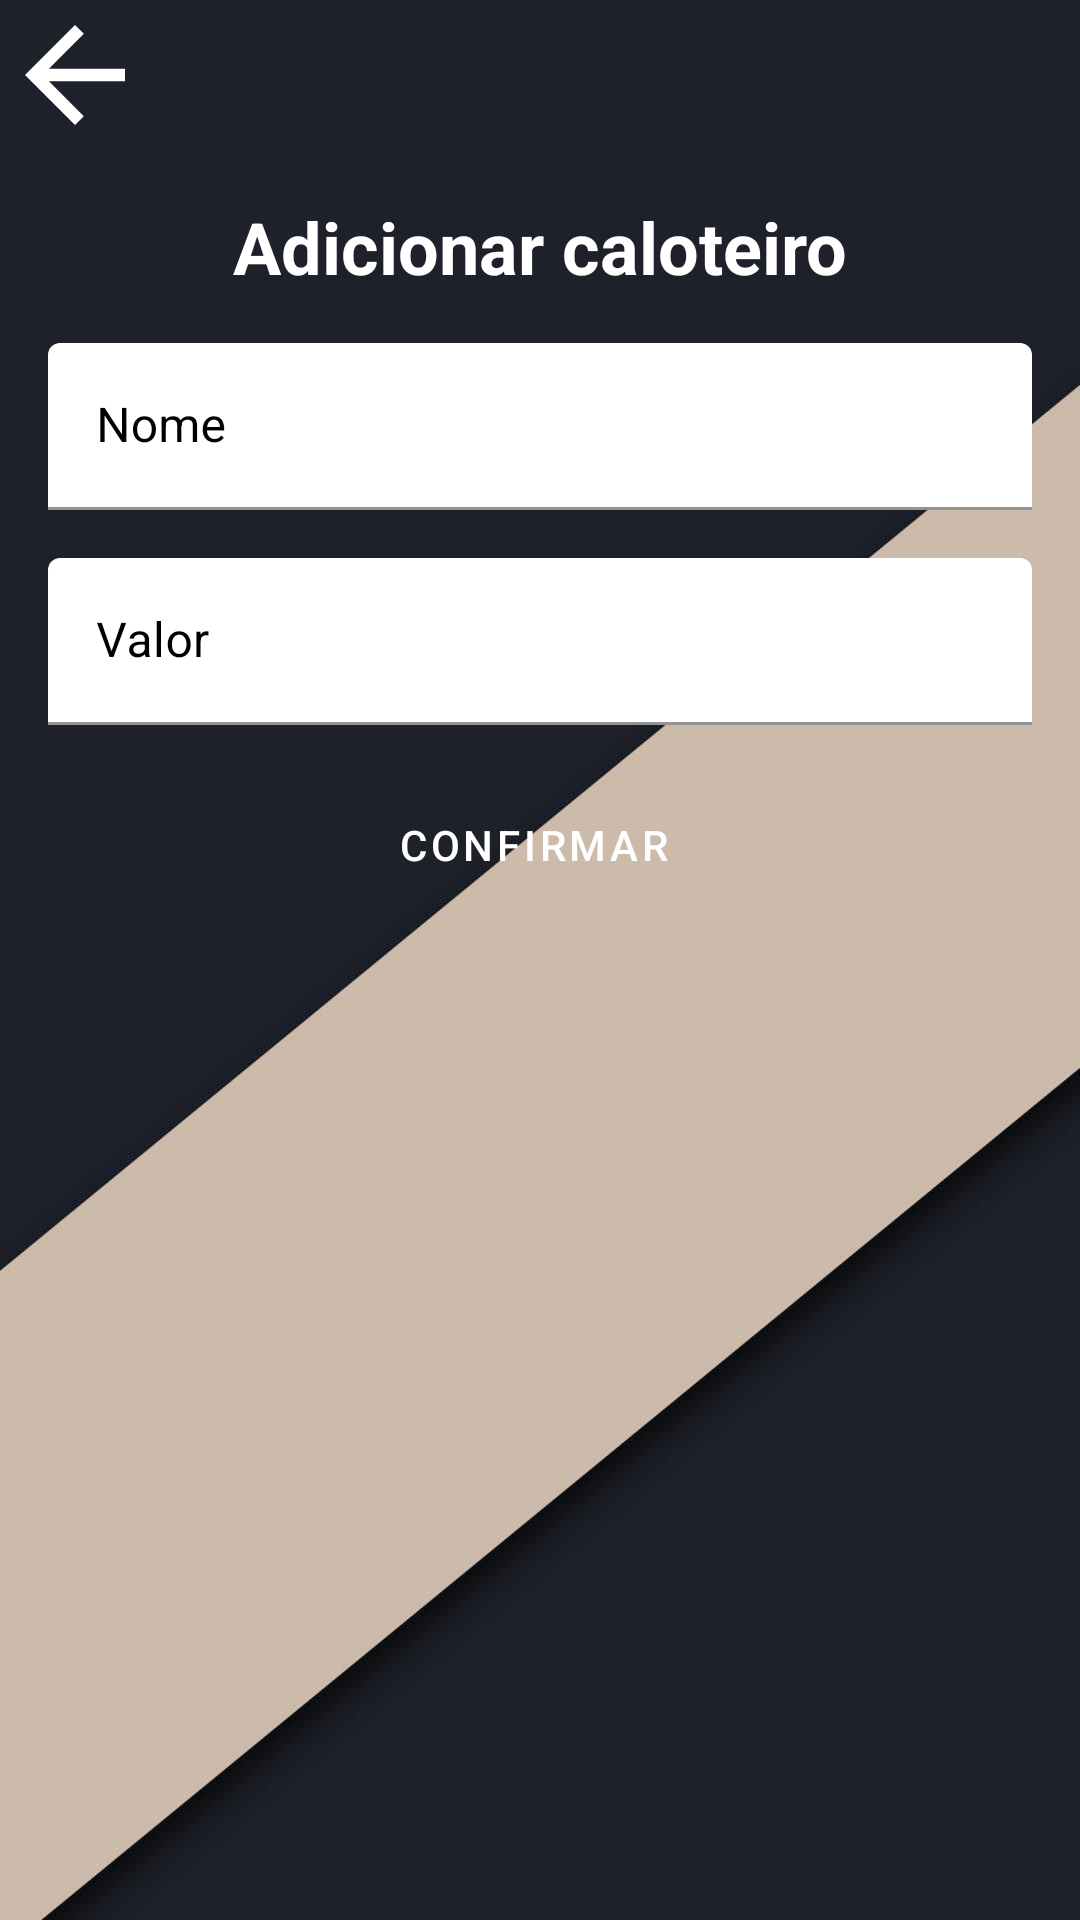

Icons on this 1080px x 1920px Android screen, each with its box as (x1, y1, x2, y2):
voltar: (25, 25, 125, 125)
